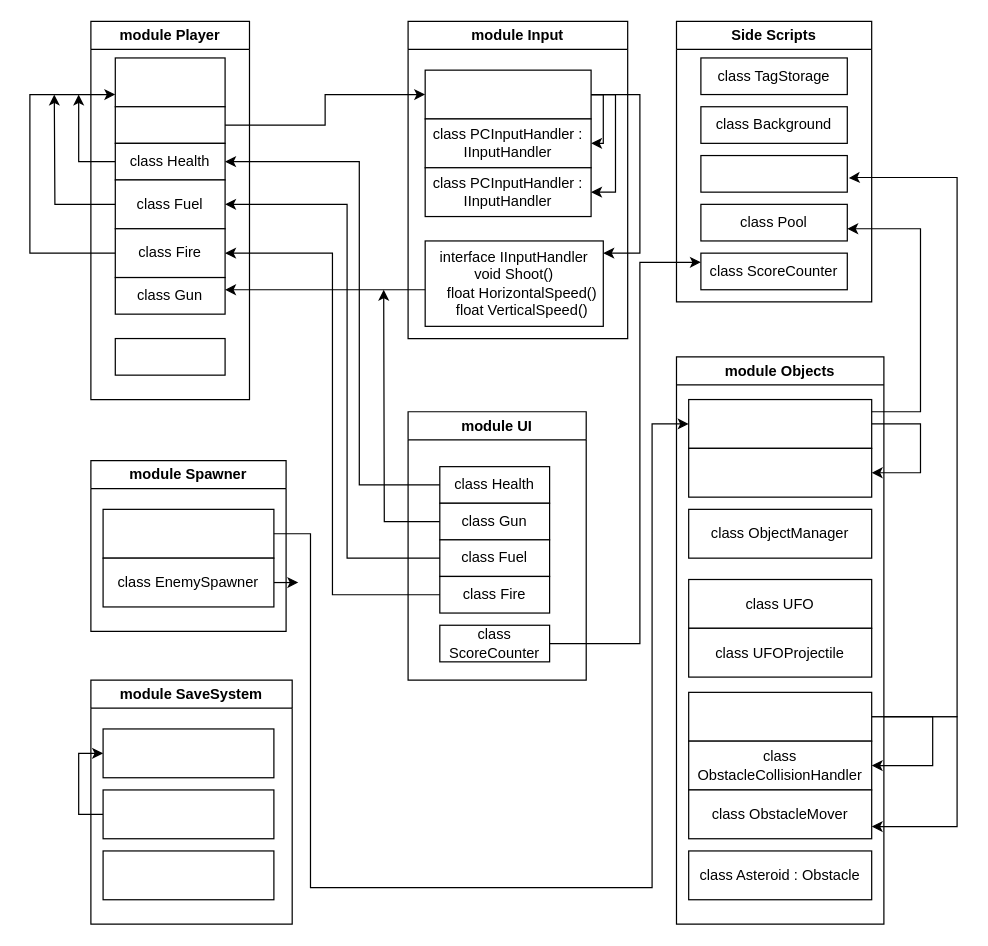
This 988x946 diagram has some shape labels left out. The centre of each missing label's shape, as x and y in pixels:
"class Bomb" belongs at (x=169, y=356).
"class InputManager" belongs at (x=507, y=94).
"class Movement" belongs at (x=169, y=124).
"class Obstacle" belongs at (x=779, y=716).
"class ObstacleSpawner" belongs at (x=188, y=533).
"class Player void KillPlayer()" belongs at (x=169, y=82).
"class PoolableObject" belongs at (x=779, y=472).
"class PoolManager" belongs at (x=779, y=423).
"class Rotator" belongs at (x=773, y=173).
"class SaveSystem" belongs at (x=188, y=753).
"class ScoreSaver" belongs at (x=188, y=814).
"struct Score" belongs at (x=188, y=875).
